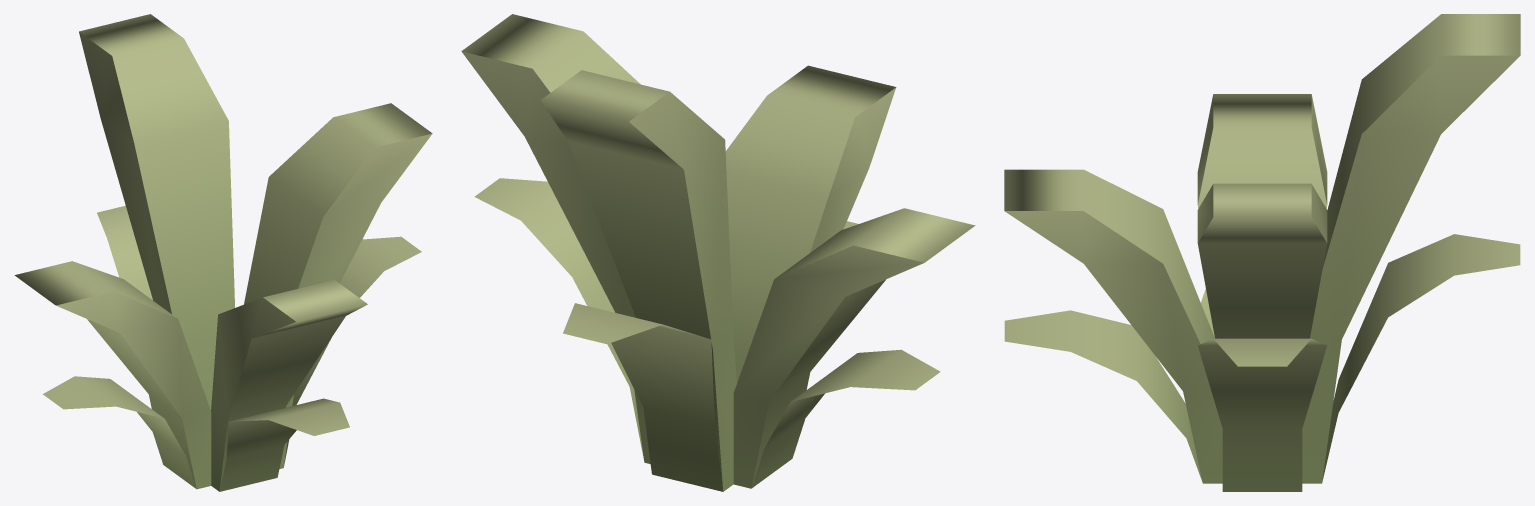
File: plant-separate-type-a.glb
The picture shows the model from 3 angles, left to right: view 1: azimuth 30°, elevation 25°; view 2: azimuth 150°, elevation 25°; view 3: azimuth 270°, elevation 25°; orthographic projection. The views are drawn at different scales.
Visible parts, largest first — view 1: plant-separate-type-a; view 2: plant-separate-type-a; view 3: plant-separate-type-a.
Boxes of the visible parts, bbox=[...] form: plant-separate-type-a: bbox=[14, 14, 432, 491]; plant-separate-type-a: bbox=[461, 14, 975, 491]; plant-separate-type-a: bbox=[1004, 14, 1520, 491].
Bounding box in the file's own units: 0.4875 × 0.45 × 0.4875.
